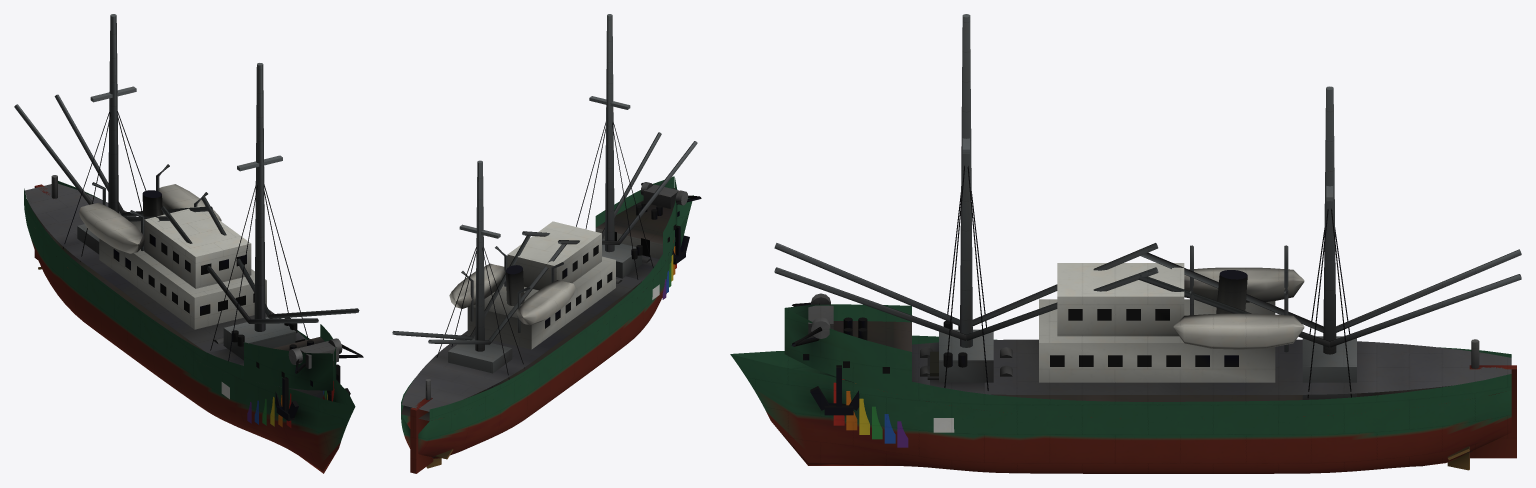
Rendered from model_built.glb.
3 renders of one model, left to right at view 1: azimuth 30°, elevation 25°; view 2: azimuth 150°, elevation 25°; view 3: azimuth 270°, elevation 25°, orthographic. The views are drawn at different scales.
Parts seen in each view (by area): view 1: main; view 2: main; view 3: main.
Boxes of the visible parts, x1=… form: main: x1=14, y1=14, x2=363, y2=473; main: x1=392, y1=14, x2=701, y2=473; main: x1=730, y1=14, x2=1521, y2=473.
Bounding box in the file's own units: 8.5 × 27.45 × 43.56.
Materials: 1 (1 with a texture image).
